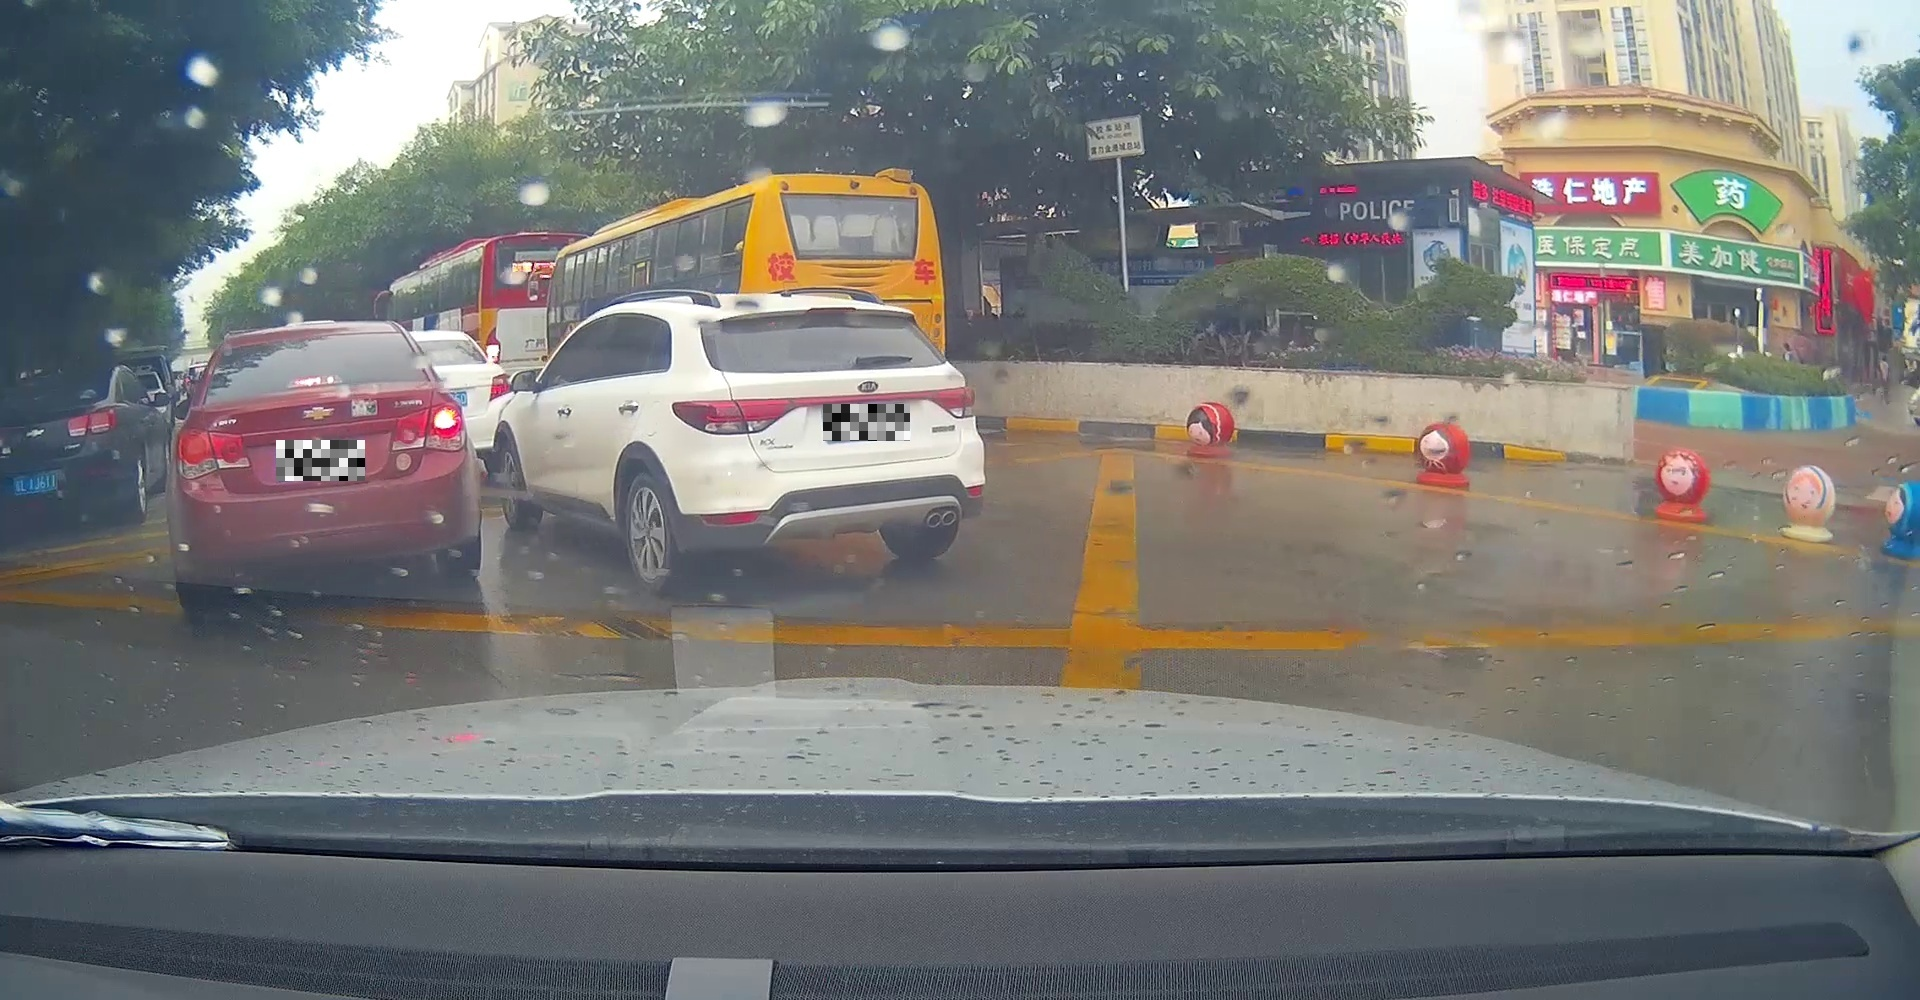L_light: (672, 397, 792, 434), (177, 429, 251, 478)
R_light: (390, 398, 467, 451), (931, 385, 977, 419)
T_light: (291, 374, 343, 390), (808, 306, 856, 315)
day-no: (670, 293, 985, 593)
day-right: (166, 319, 483, 615)
plate_1: (276, 440, 364, 481)
plate_2: (823, 404, 910, 442)
